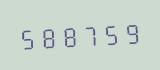eight: (38, 22, 58, 51), (60, 21, 80, 49)
five: (17, 23, 37, 52), (102, 18, 122, 47)
nine: (123, 17, 143, 46)
seven: (81, 19, 101, 48)
